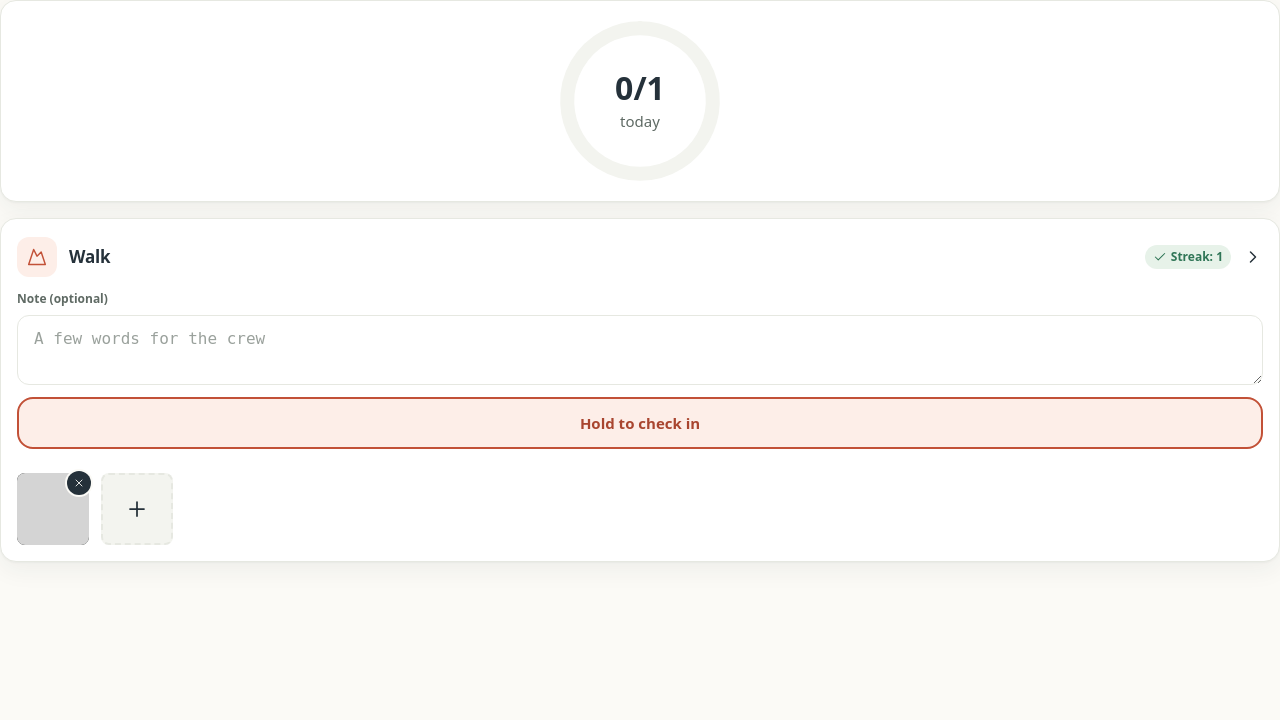
Test case: proofs on today's card › waits again at once when the only photo is removed, until it is undone
Check: the button "Hold to check in" is enabled, box [17,397,1263,449]
Click the button named "Remove this proof".
click(79, 483)  # box [57,461,101,505]
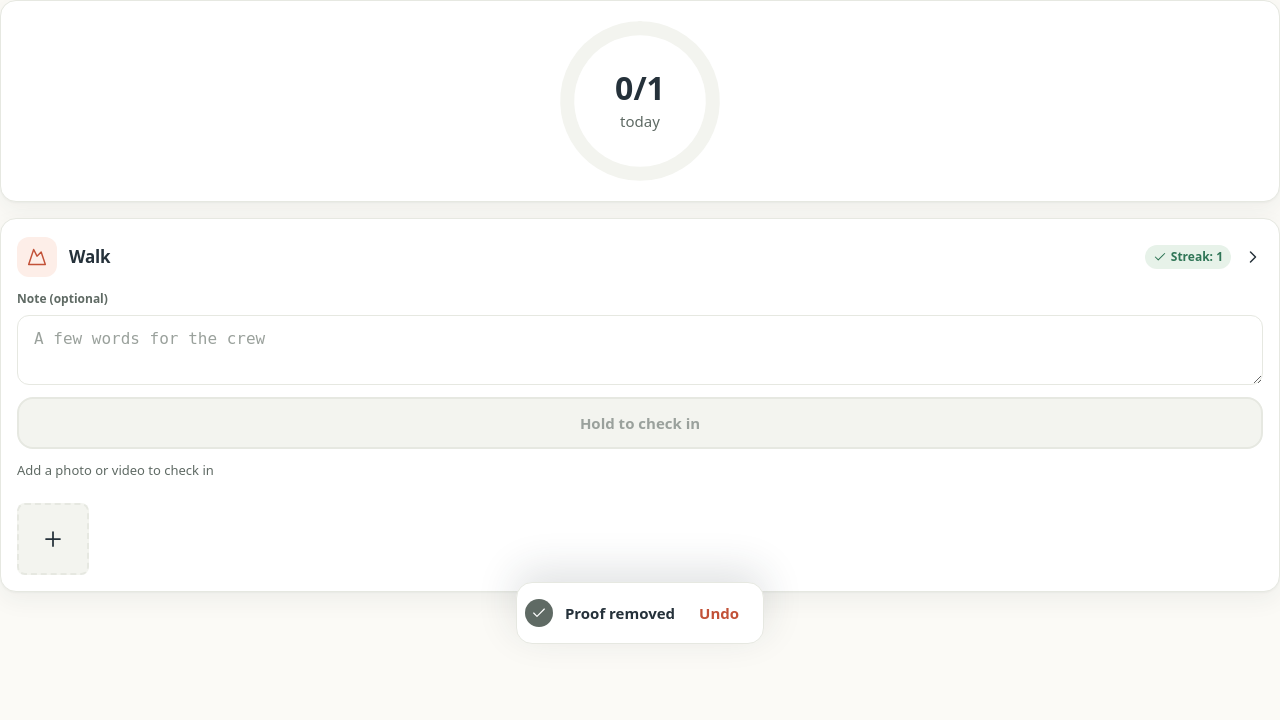
Check: the button "Hold to check in" is disabled, box [17,397,1263,449]
Check: the text "Add a photo or video to check in" is shown, box [17,461,214,479]
Click the button "Undo".
click(719, 613)  # box [691,591,747,635]
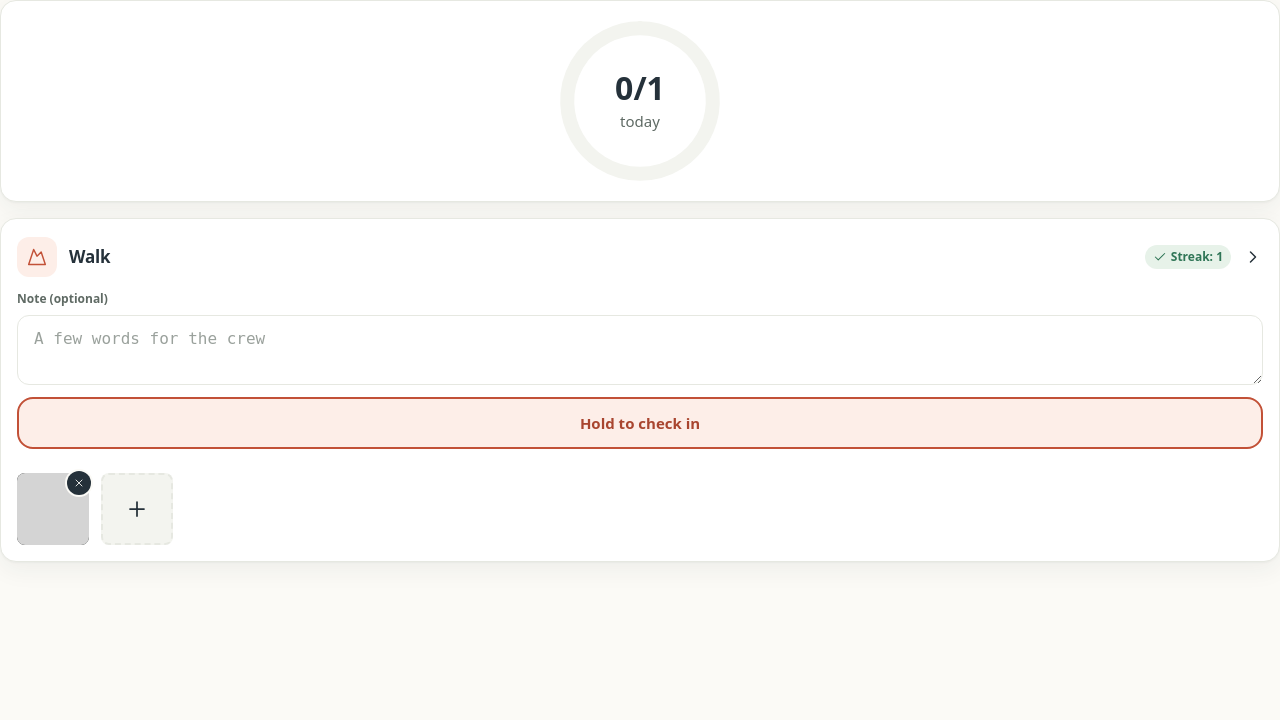
Check: the button "Hold to check in" is enabled, box [17,397,1263,449]
